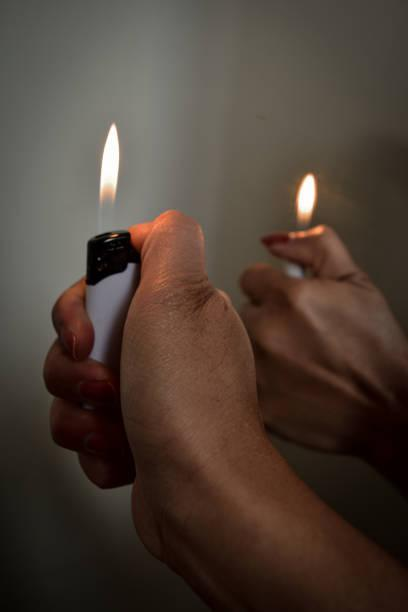Fire: (97, 120, 125, 228), (291, 170, 323, 230)
